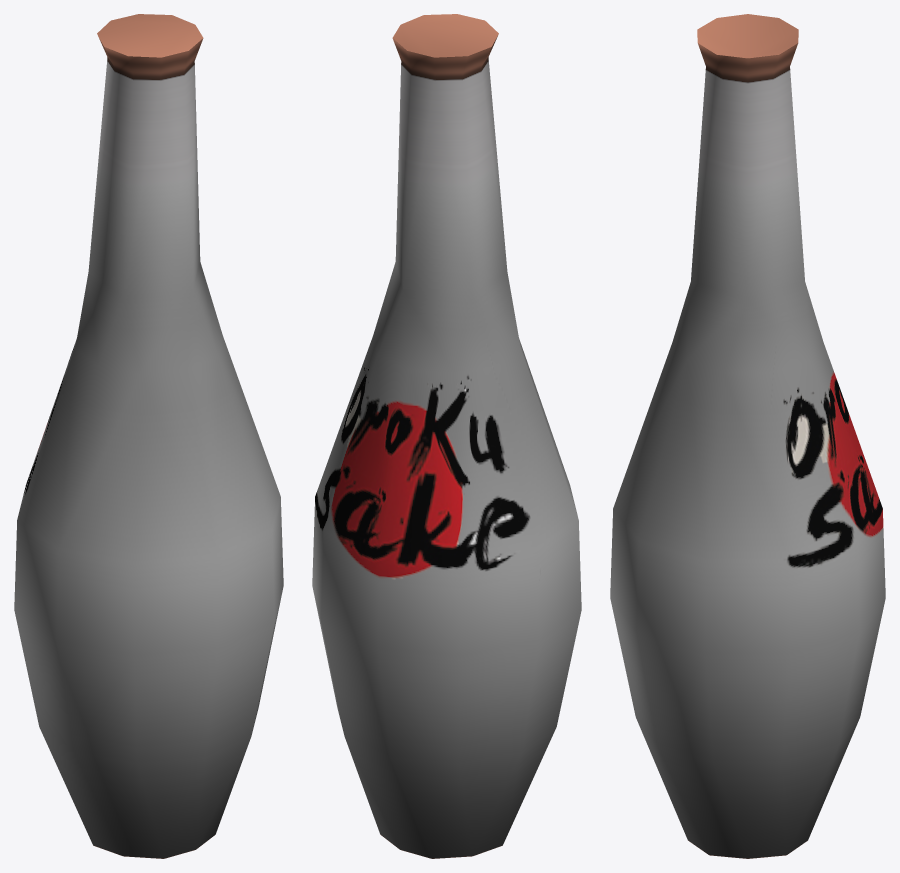
File: Pin_Japan_Sake_low.fbx
The picture shows the model from 3 angles, left to right: view 1: azimuth 30°, elevation 25°; view 2: azimuth 150°, elevation 25°; view 3: azimuth 270°, elevation 25°; orthographic projection.
Visible parts, largest first — view 1: Sake1_low; view 2: Sake1_low; view 3: Sake1_low.
Part boxes in pixels (left/top/right/bottom): Sake1_low: left=14, top=14, right=283, bottom=858; Sake1_low: left=312, top=14, right=581, bottom=858; Sake1_low: left=610, top=14, right=885, bottom=858.
Bounding box in the file's own units: 2.13 × 7.15 × 2.24.
